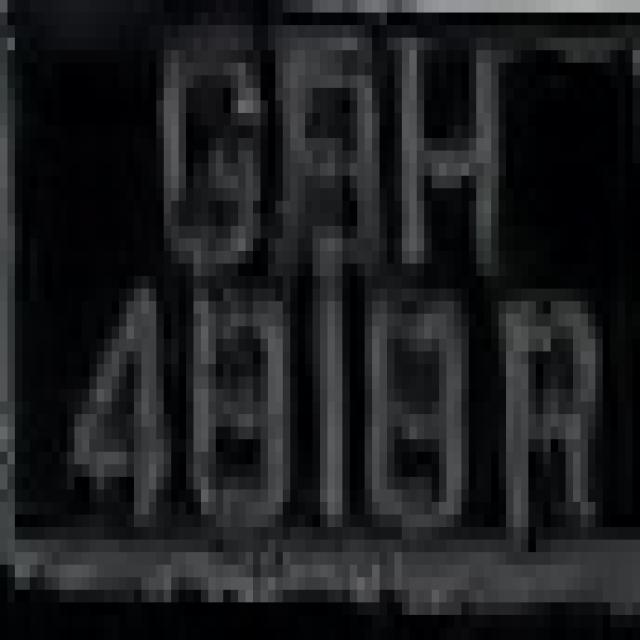1: (276, 238, 358, 578)
4: (60, 276, 178, 565)
8: (164, 276, 298, 590), (350, 251, 469, 552)
B: (253, 25, 394, 276)
G: (134, 13, 268, 301)
H: (394, 12, 506, 288)
R: (484, 288, 610, 590)
